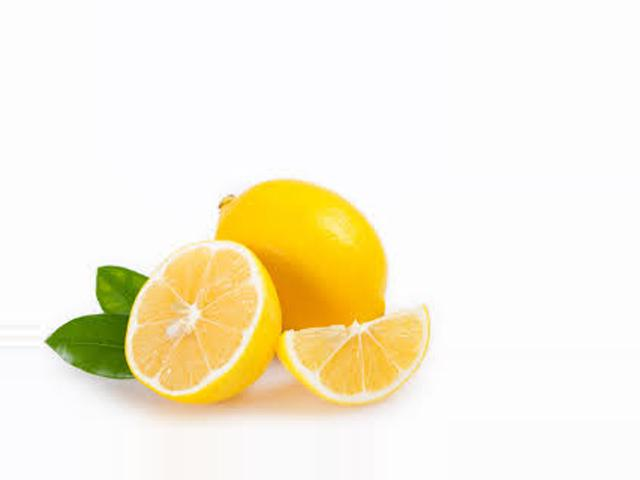lemon: (202, 176, 393, 352)
